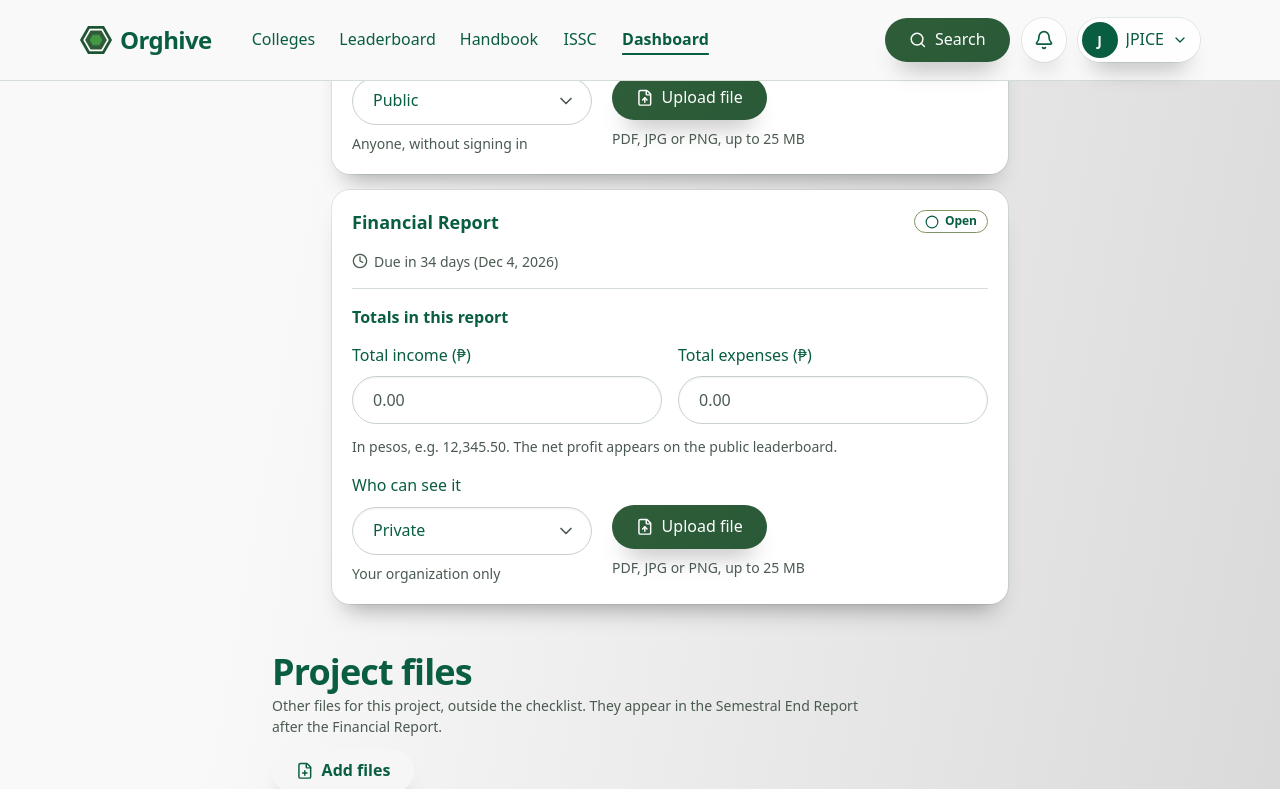
Test: /projects/:id › refuses totals that are not amounts
(page scrolled)
Step 1. Type "about 5k" into the field labelled "Total income (₱)" → coordinates (507, 400), box [352, 376, 662, 424]
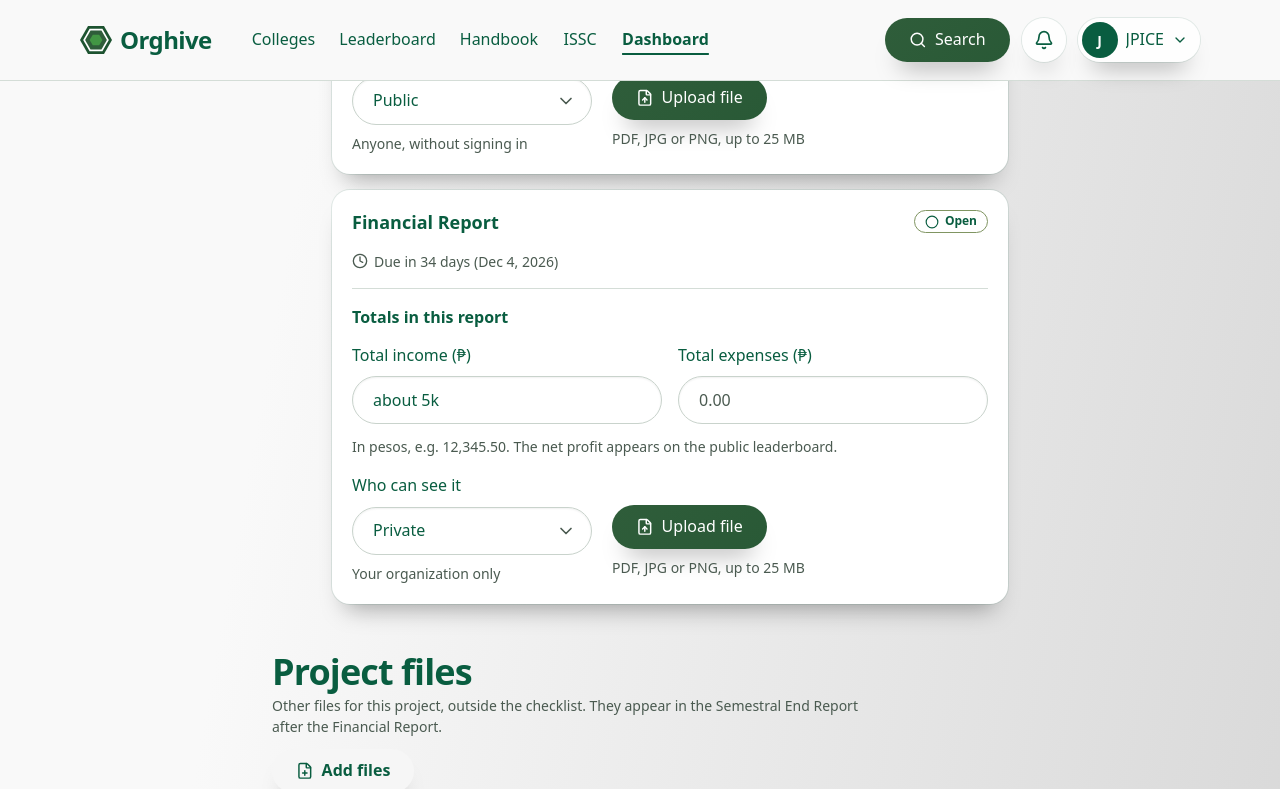
Step 2. Click the button "Upload file" below "Total income (₱)" → coordinates (689, 527), box [612, 505, 767, 549]
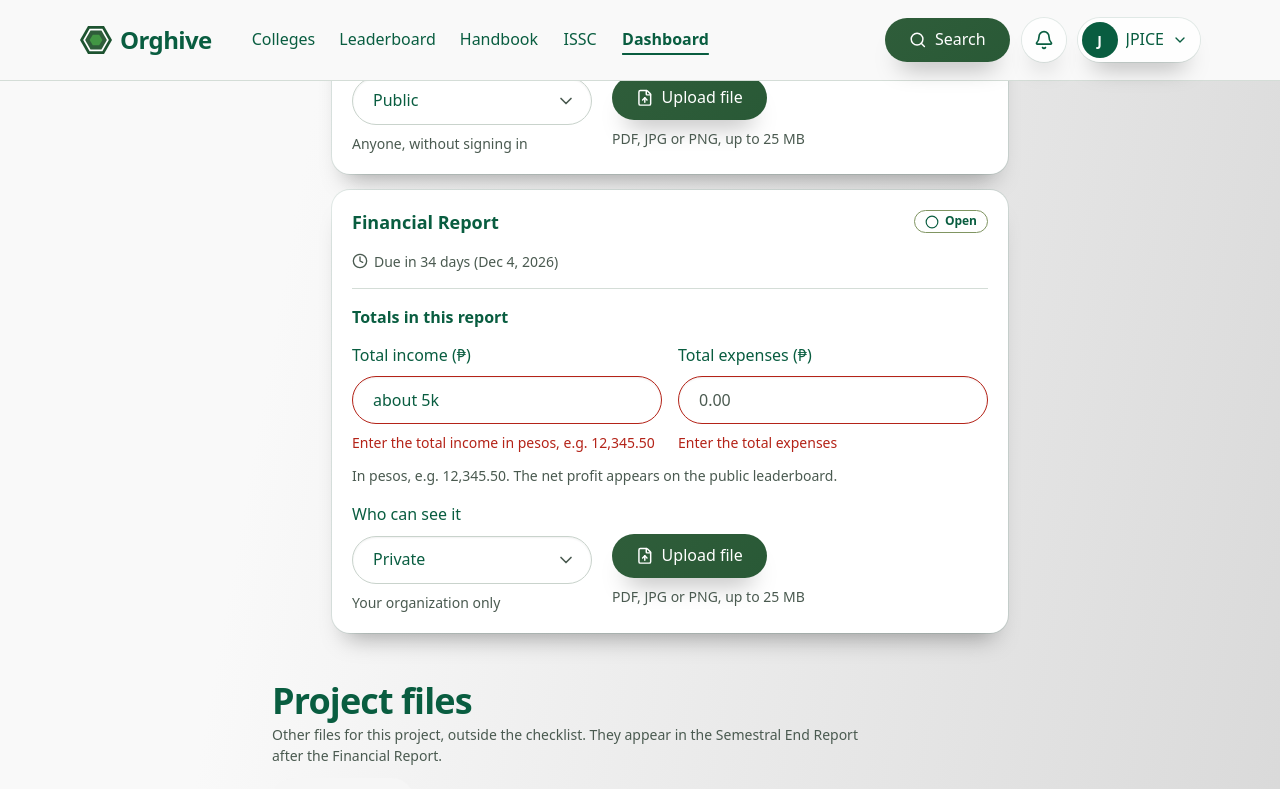
Now the text "Enter the total income in pesos, e.g. 12,345.50" is shown, box [352, 432, 662, 453]
